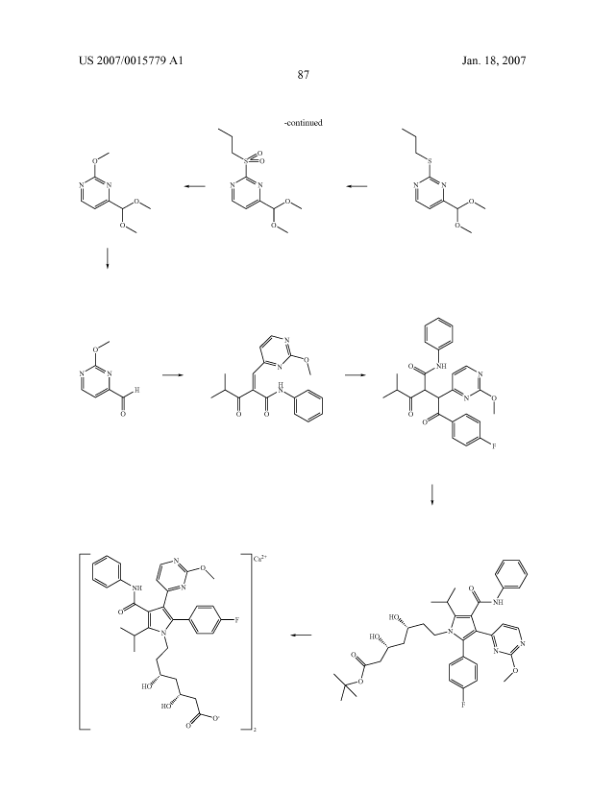compound-structure: (62, 536, 267, 737), (331, 546, 542, 720), (382, 315, 502, 457), (388, 104, 488, 244), (206, 326, 328, 433), (211, 121, 305, 240), (62, 145, 156, 241), (75, 329, 146, 422)
reaction: (44, 96, 575, 751)
reaction-arrow: (341, 172, 371, 198), (179, 174, 206, 197), (280, 626, 314, 642), (161, 366, 187, 383), (425, 482, 437, 508), (102, 249, 114, 269), (343, 372, 370, 380)
